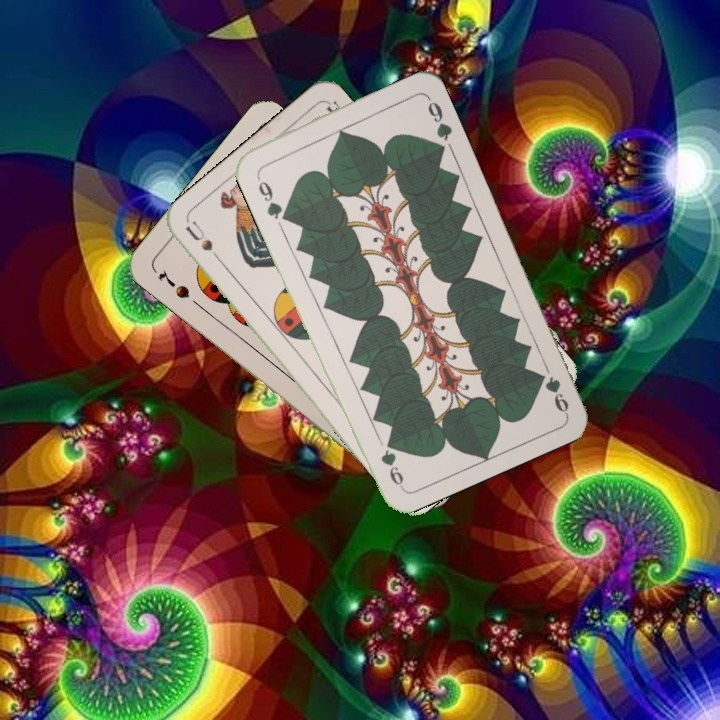G9: (252, 169, 289, 223), (533, 368, 572, 416)
S7: (154, 265, 193, 302)
SU: (181, 217, 228, 269)
